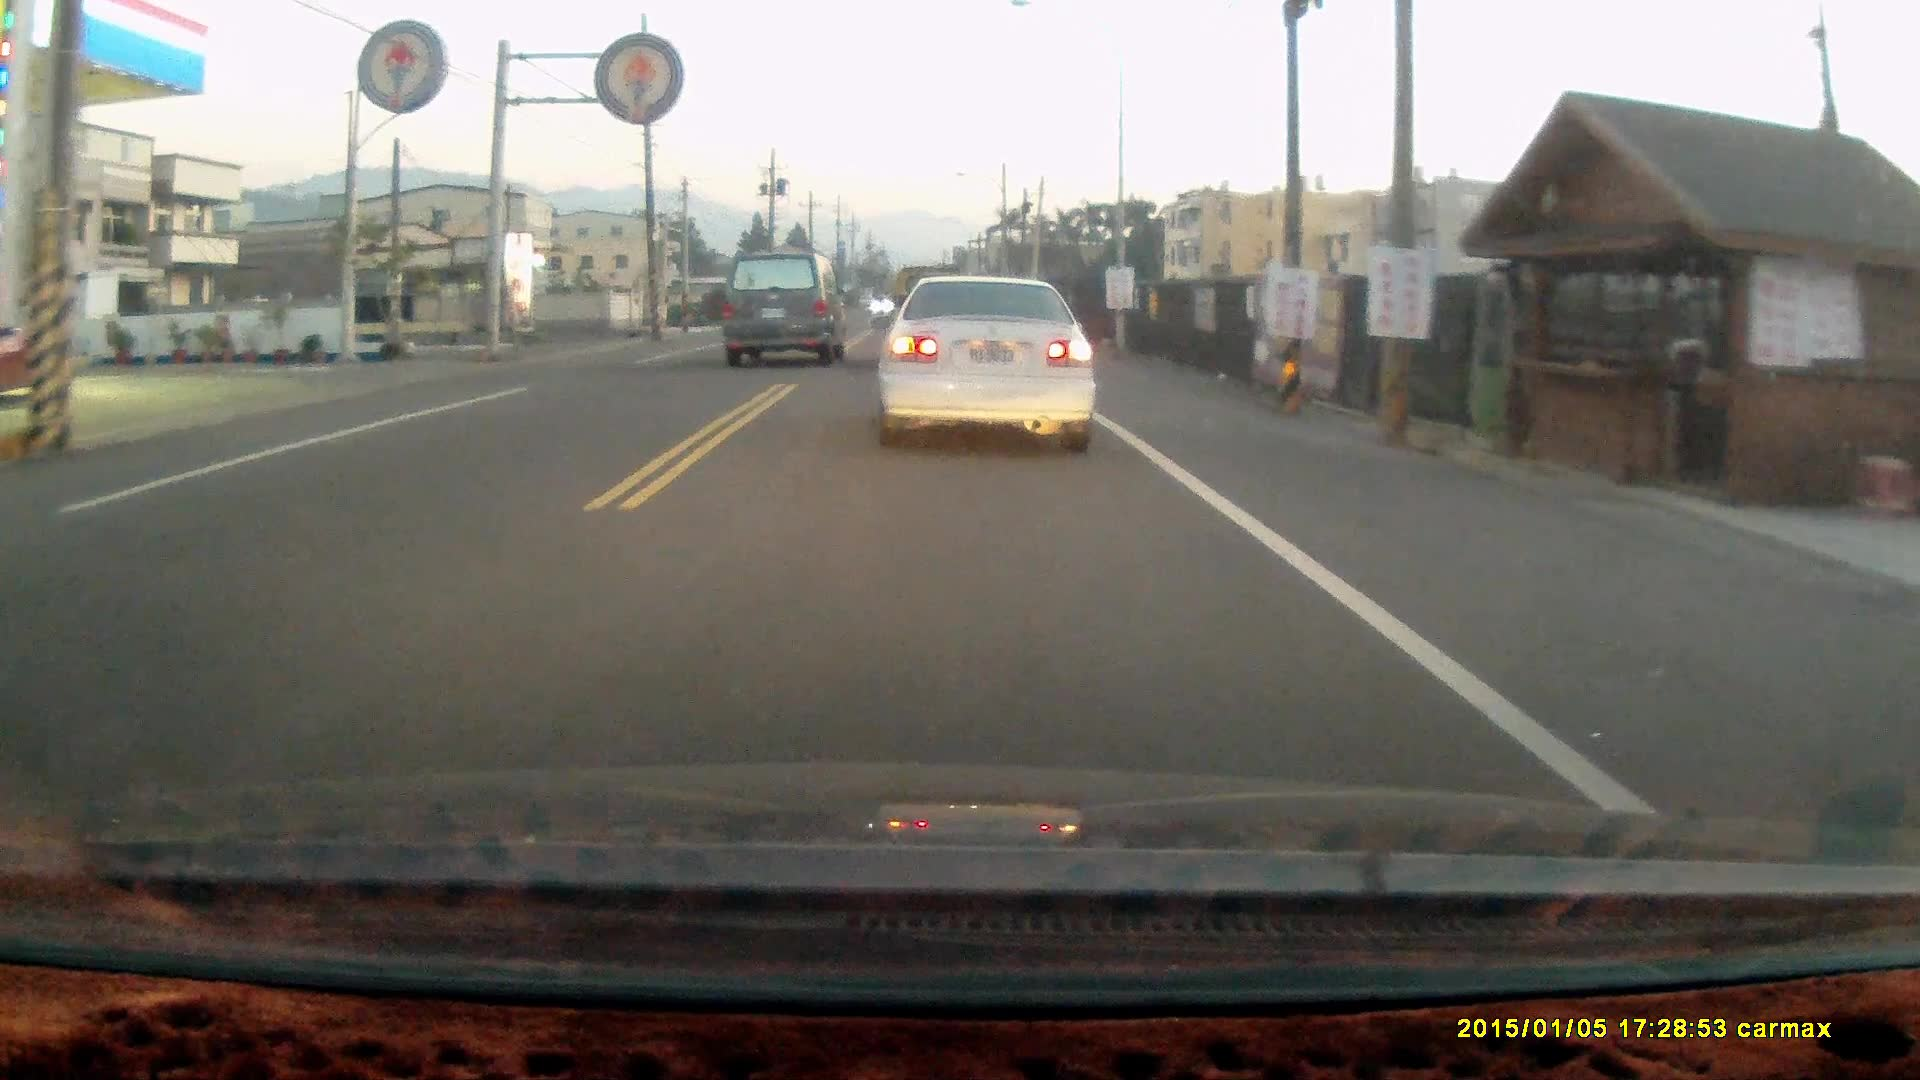pedestrian: (1670, 336, 1726, 451)
vehicle: (872, 274, 1099, 461), (716, 250, 848, 372), (1, 298, 62, 397)
